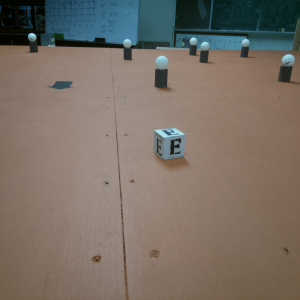blockE: (154, 127, 186, 164)
corner: (289, 17, 300, 52)
obstacle: (277, 53, 295, 86), (155, 56, 169, 91), (200, 41, 211, 64), (123, 40, 134, 62), (239, 39, 251, 59), (28, 34, 39, 55), (189, 39, 198, 56)
start: (48, 79, 75, 92)
